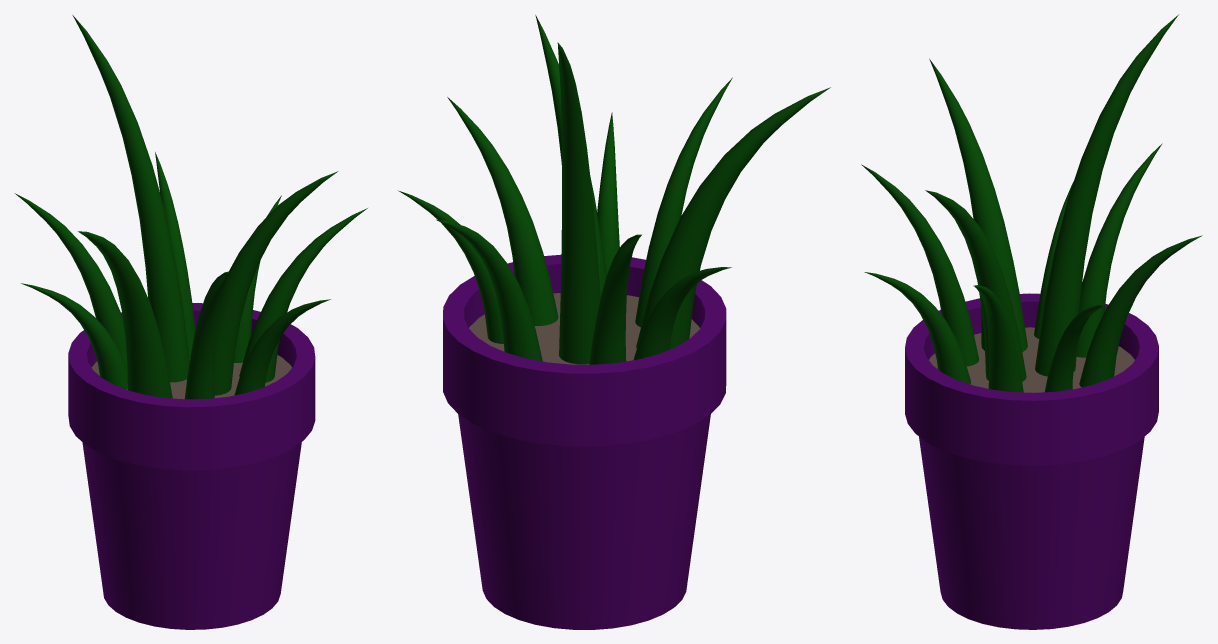
Rendered from Plante5_6.fbx.
3 renders of one model, left to right at view 1: azimuth 30°, elevation 25°; view 2: azimuth 150°, elevation 25°; view 3: azimuth 270°, elevation 25°, orthographic. The views are drawn at different scales.
Parts seen in each view (by area): view 1: pCylinder723, pCone18, pCone17, pCone15, pCone10, pCone12, pCone14, pCone19, pCone16, pCone11, pCone13, pCylinder722; view 2: pCylinder723, pCone18, pCone17, pCone12, pCone14, pCone11, pCone10, pCone19, pCylinder722, pCone16, pCone13, pCone15; view 3: pCylinder723, pCone18, pCone17, pCone14, pCone10, pCone11, pCone15, pCone12, pCone16, pCylinder722, pCone13, pCone19.
Part boxes in pixels (box(x1,y1,x2,y2)): pCylinder723: box(68, 303, 315, 629); pCone18: box(72, 15, 189, 382); pCone17: box(78, 231, 172, 398); pCone15: box(214, 171, 338, 395); pCone10: box(14, 193, 127, 370); pCone12: box(239, 208, 367, 382); pCone14: box(184, 271, 229, 399); pCone19: box(21, 283, 127, 389); pCone16: box(234, 299, 330, 395); pCone11: box(155, 152, 195, 357); pCone13: box(234, 195, 281, 362); pCylinder722: box(91, 355, 291, 399); pCylinder723: box(443, 254, 726, 629); pCone18: box(557, 42, 600, 364); pCone17: box(636, 87, 830, 349); pCone12: box(447, 97, 558, 325); pCone14: box(635, 77, 732, 327); pCone11: box(436, 219, 542, 361); pCone10: box(589, 234, 641, 364); pCone19: box(633, 267, 731, 360); pCylinder722: box(469, 293, 700, 364); pCone16: box(597, 112, 619, 274); pCone13: box(398, 190, 503, 343); pCone15: box(535, 15, 606, 297); pCylinder723: box(905, 293, 1158, 629); pCone18: box(1035, 14, 1178, 376); pCone17: box(929, 58, 1027, 351); pCone14: box(861, 164, 979, 366); pCone10: box(1076, 143, 1162, 357); pCone11: box(1079, 235, 1202, 387); pCone15: box(925, 190, 1026, 381); pCone12: box(973, 285, 1023, 392); pCone16: box(864, 272, 970, 384); pCylinder722: box(929, 327, 1134, 392); pCone13: box(1044, 304, 1105, 392); pCone19: box(1034, 181, 1073, 338).
Bounding box in the file's own units: 16.39 × 26.9 × 15.12.
